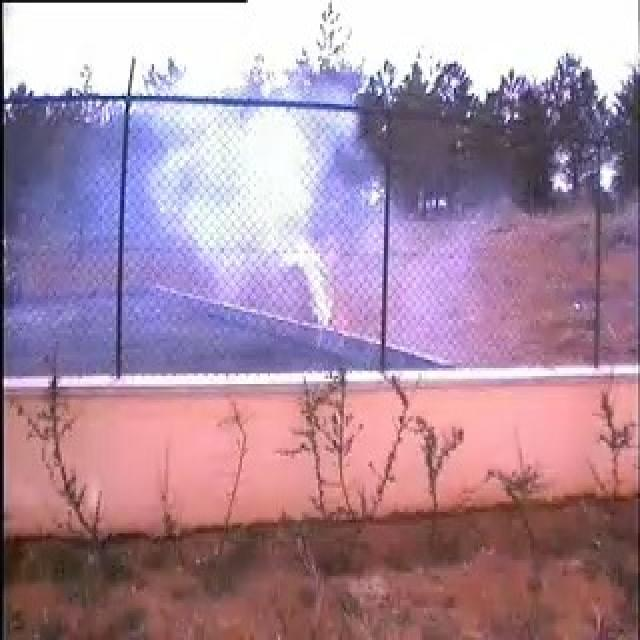smoke: (76, 90, 374, 367)
